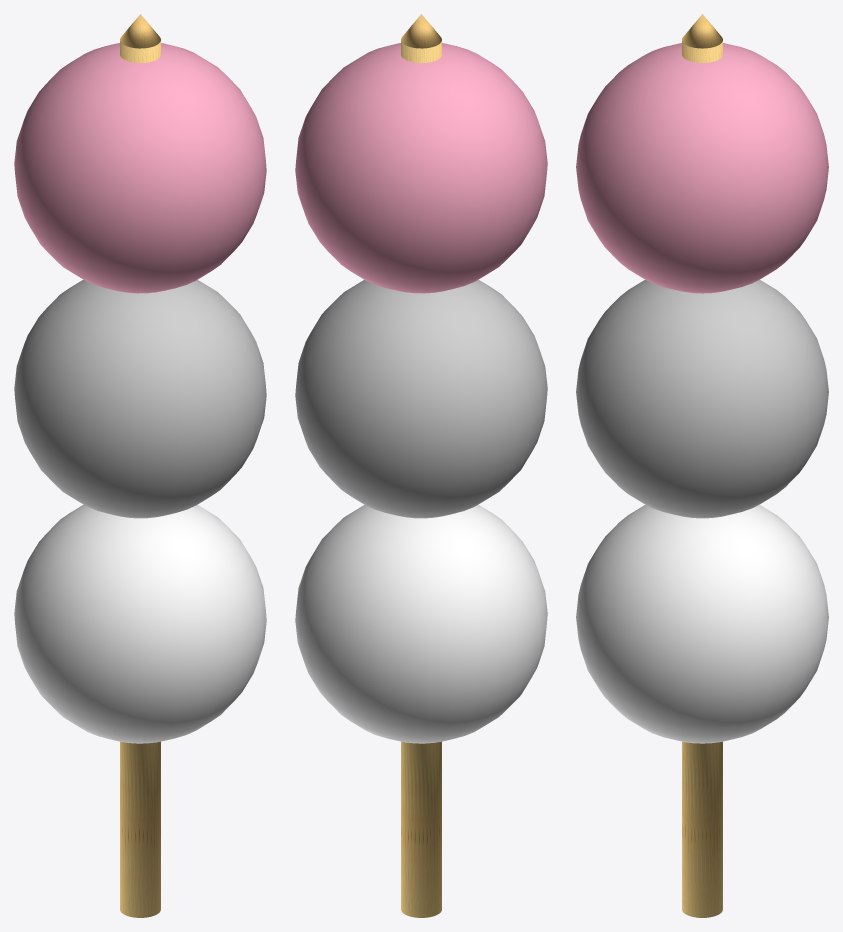
File: kushidango.fbx
The picture shows the model from 3 angles, left to right: view 1: azimuth 30°, elevation 25°; view 2: azimuth 150°, elevation 25°; view 3: azimuth 270°, elevation 25°; orthographic projection.
Visible parts, largest first — view 1: dango1, dango3, dango2, kushi; view 2: dango1, dango3, dango2, kushi; view 3: dango1, dango3, dango2, kushi.
Part boxes in pixels (x1=…): dango1: x1=14, y1=43, x2=266, y2=293; dango3: x1=14, y1=504, x2=266, y2=743; dango2: x1=14, y1=279, x2=266, y2=518; kushi: x1=120, y1=14, x2=160, y2=917; dango1: x1=295, y1=43, x2=547, y2=293; dango3: x1=295, y1=504, x2=547, y2=743; dango2: x1=295, y1=279, x2=547, y2=518; kushi: x1=401, y1=14, x2=441, y2=917; dango1: x1=576, y1=43, x2=828, y2=293; dango3: x1=576, y1=504, x2=828, y2=743; dango2: x1=576, y1=279, x2=828, y2=518; kushi: x1=682, y1=14, x2=722, y2=917.
Bounding box in the file's own units: 200 × 781 × 200.
